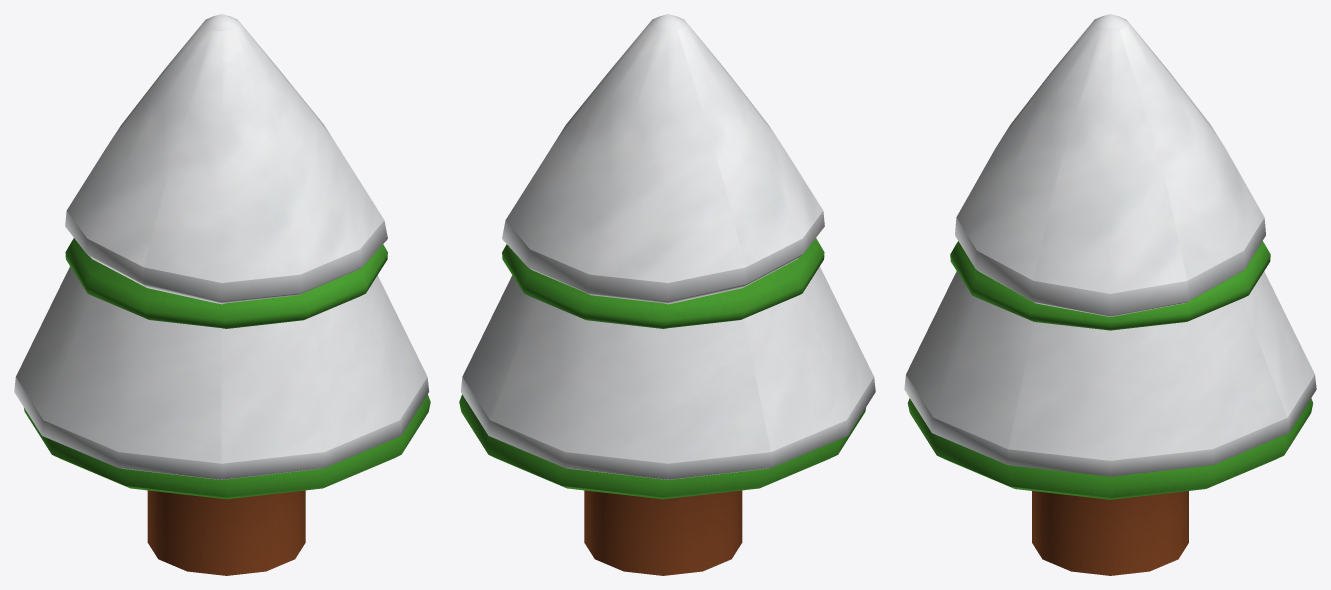
Rendered from Tree02.fbx.
3 renders of one model, left to right at view 1: azimuth 30°, elevation 25°; view 2: azimuth 150°, elevation 25°; view 3: azimuth 270°, elevation 25°, orthographic.
Parts seen in each view (by area): view 1: Tree02; view 2: Tree02; view 3: Tree02.
Boxes of the visible parts, x1=… form: Tree02: x1=14, y1=14, x2=430, y2=575; Tree02: x1=459, y1=14, x2=875, y2=575; Tree02: x1=904, y1=14, x2=1316, y2=575.
Bounding box in the file's own units: 127 × 178 × 126.
